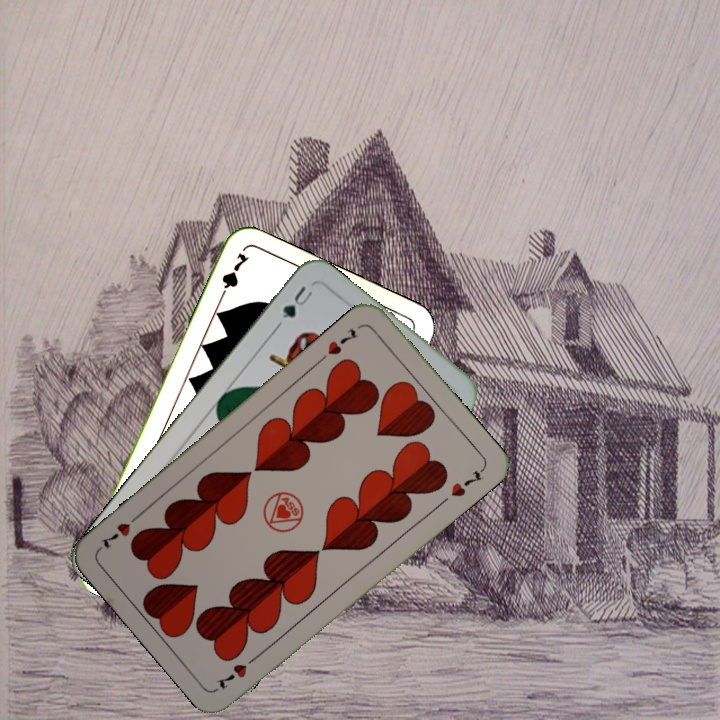G7: (214, 248, 251, 304)
GU: (278, 281, 317, 321)
H7: (212, 649, 262, 692), (323, 324, 361, 358)
